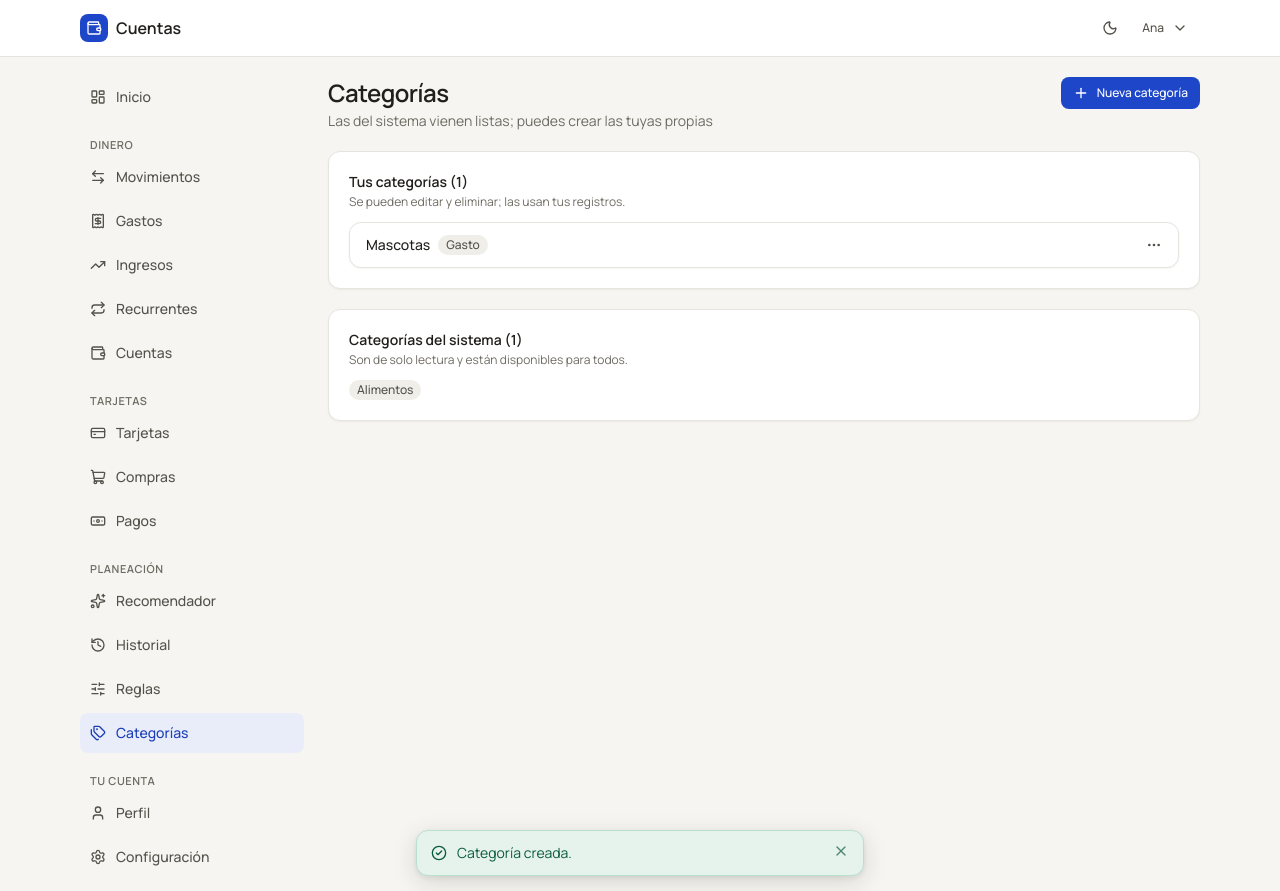
Test: categorías propias › elimina una categoría propia con confirmación
Click the button named "Más acciones de Mascotas".
click(1154, 245)  # box [1138,229,1170,261]
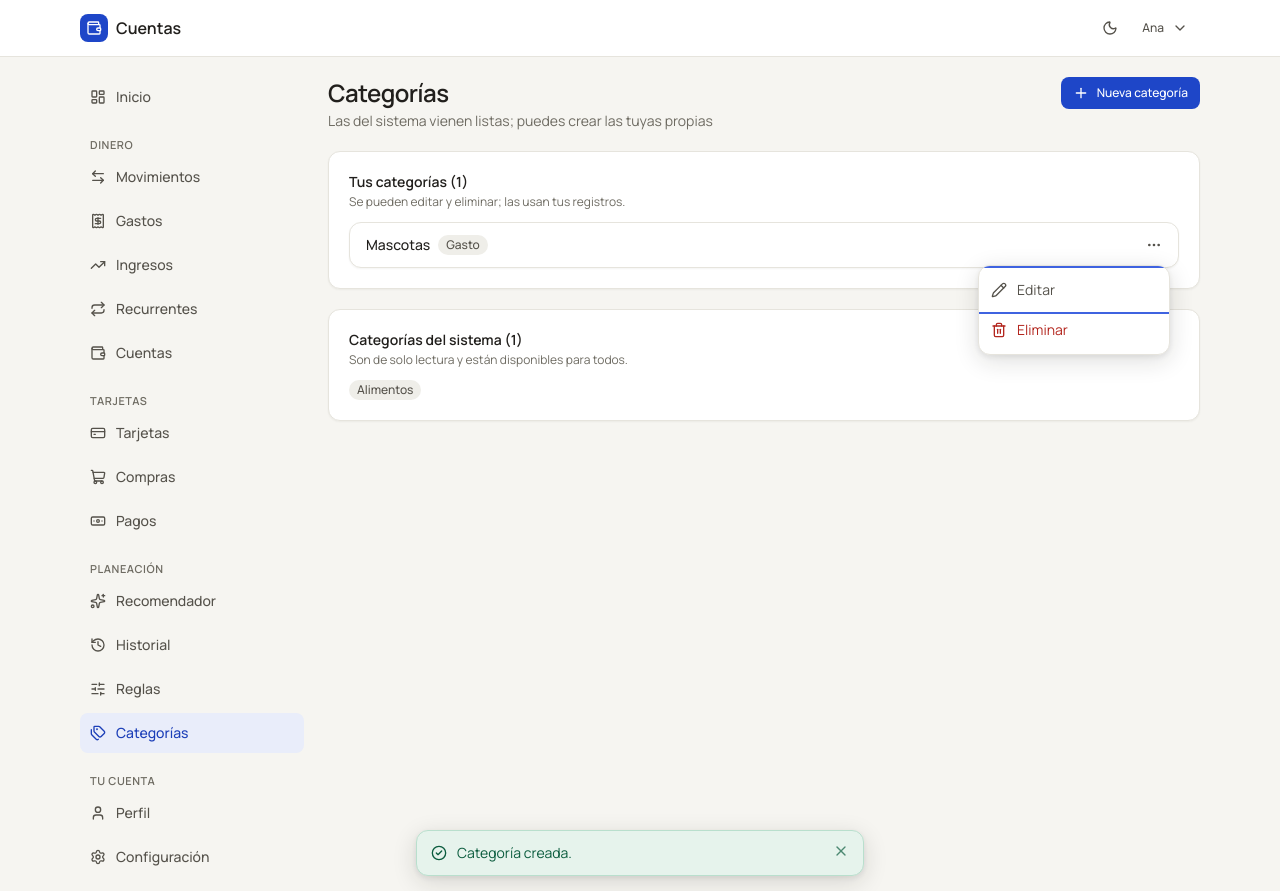
Click the menu item "Eliminar".
click(1074, 330)  # box [979,310,1169,350]
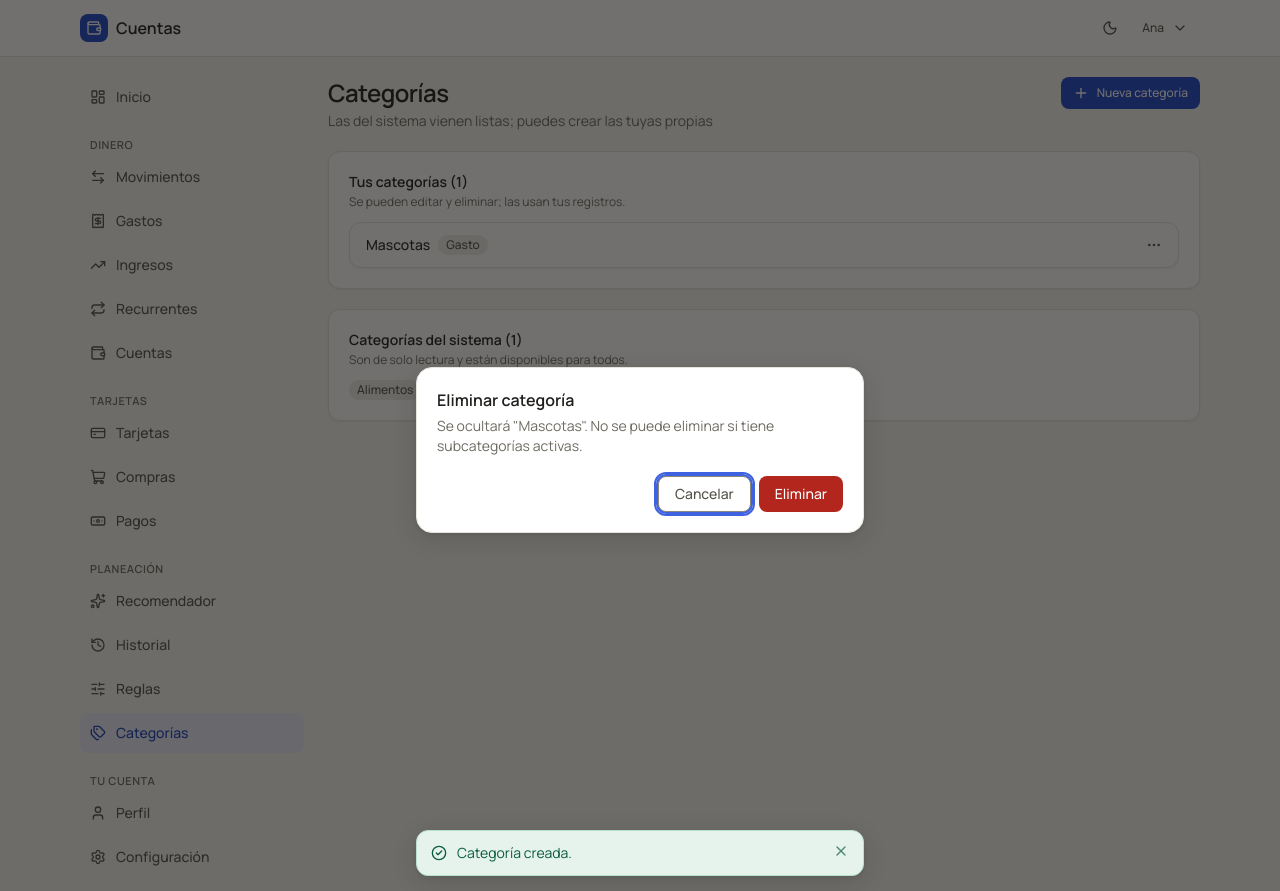
Click the button "Eliminar".
click(801, 494)  # box [759,476,843,512]
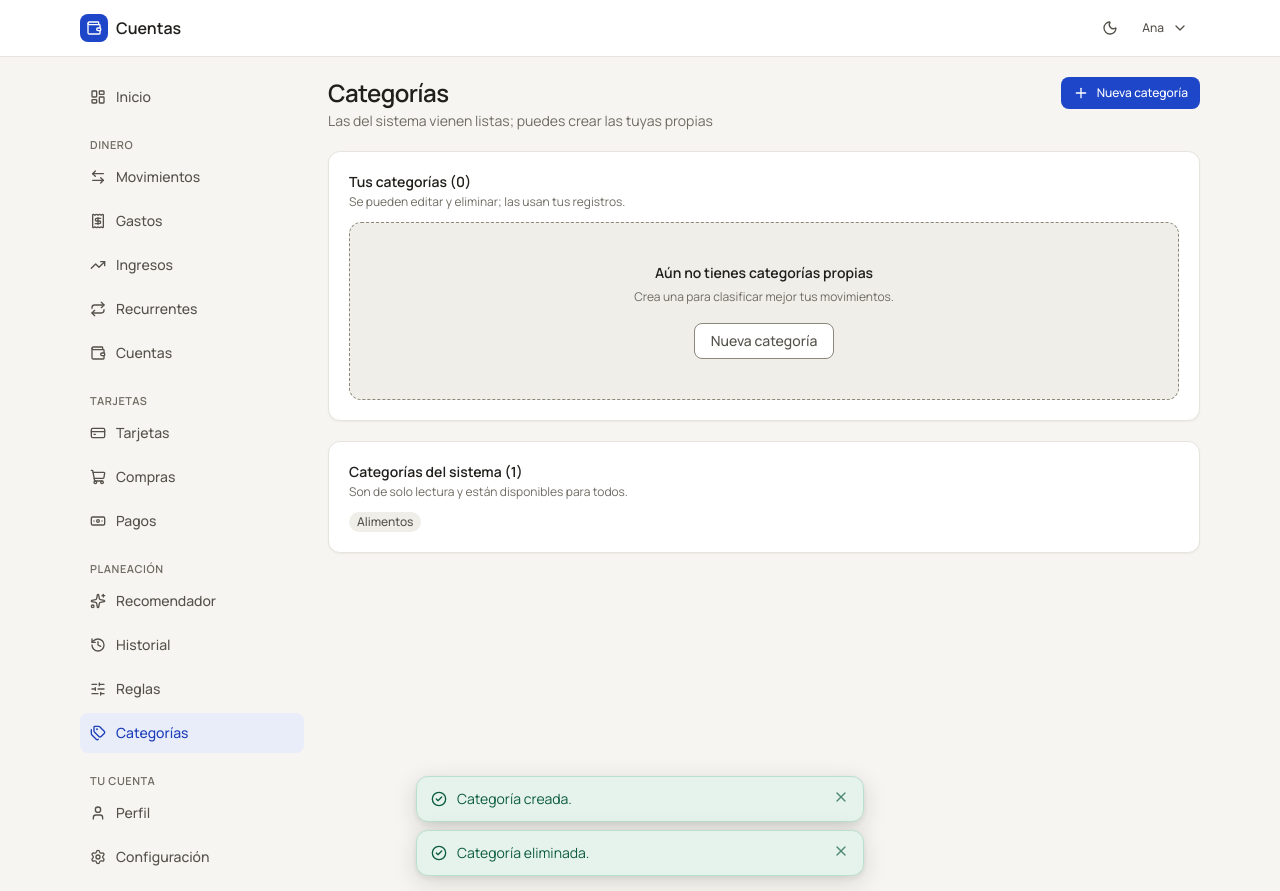
Expected: the button "Mascotas" is gone
